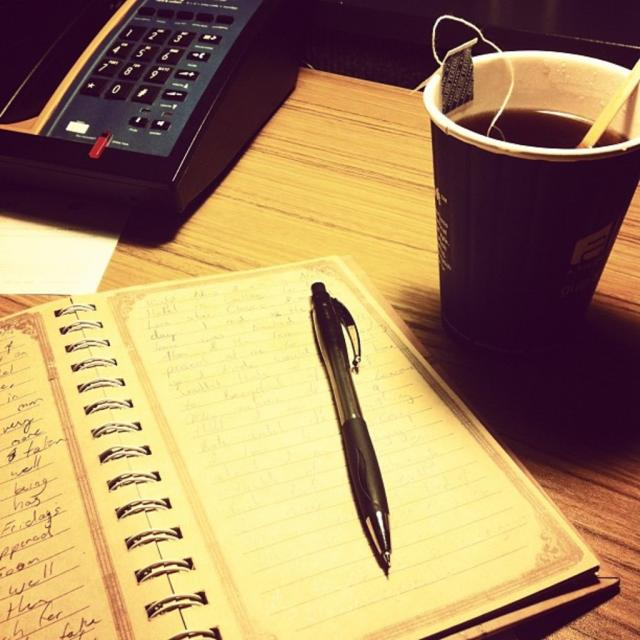Book: (0, 251, 617, 639)
